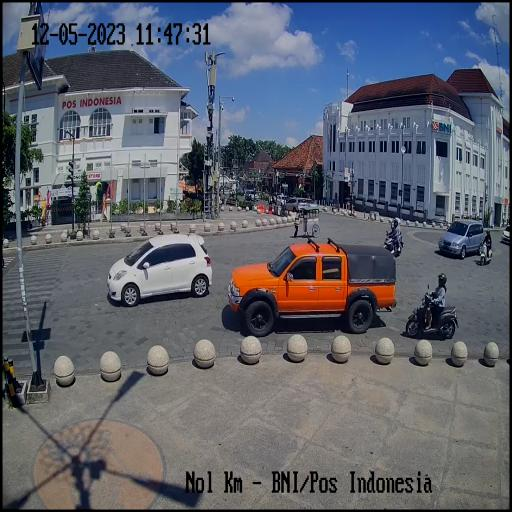mobil: (226, 239, 399, 335), (106, 232, 212, 308), (438, 217, 484, 259)
motor: (404, 284, 459, 340), (383, 229, 404, 257), (480, 242, 492, 268)
